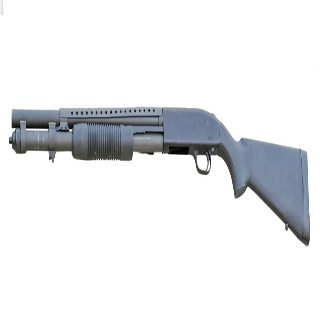shotgun: (9, 104, 315, 246)
